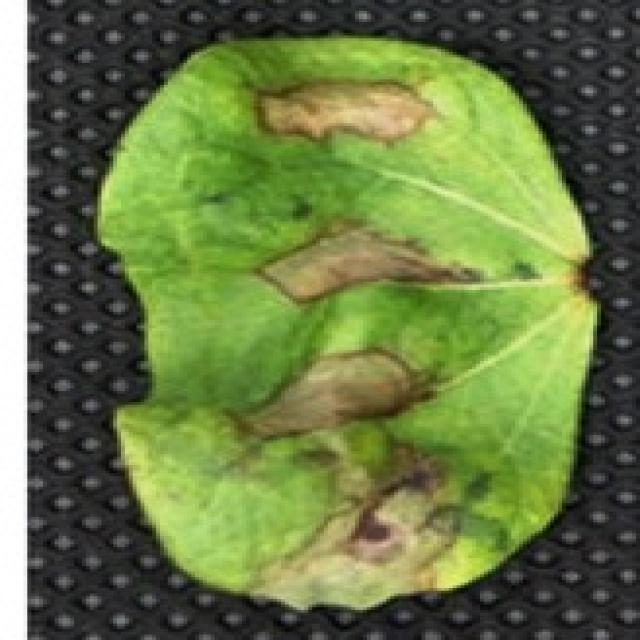Bacterial Blight: (308, 75, 431, 136)
